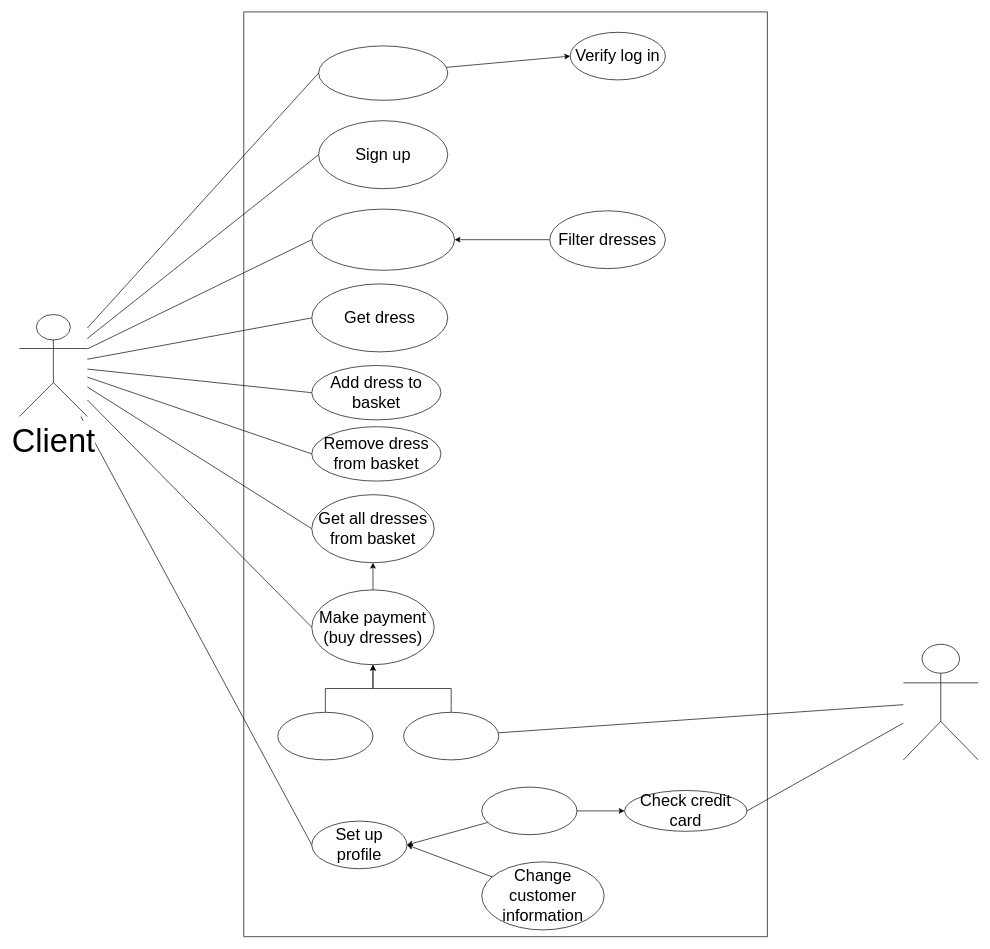
This 990x949 diagram has some shape labels left out. The centre of each missing label's shape, as x and y in pixels:
Bank: the point at 940,702
Get dresses: the point at 383,239
Pay with cash: the point at 325,736
Pay with credit card: the point at 451,736
Set up credit card: the point at 529,810
Sign in: the point at 383,72
